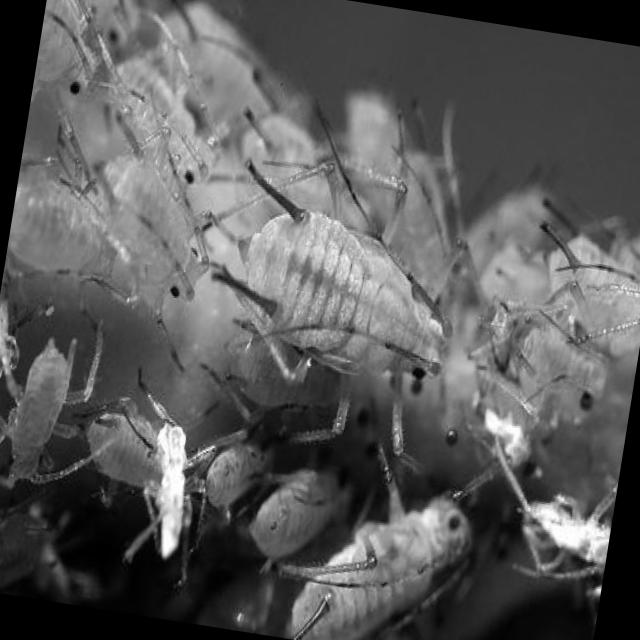Aphids: (190, 164, 492, 442), (237, 460, 492, 640), (51, 130, 226, 332), (74, 34, 251, 207), (0, 315, 118, 527)
